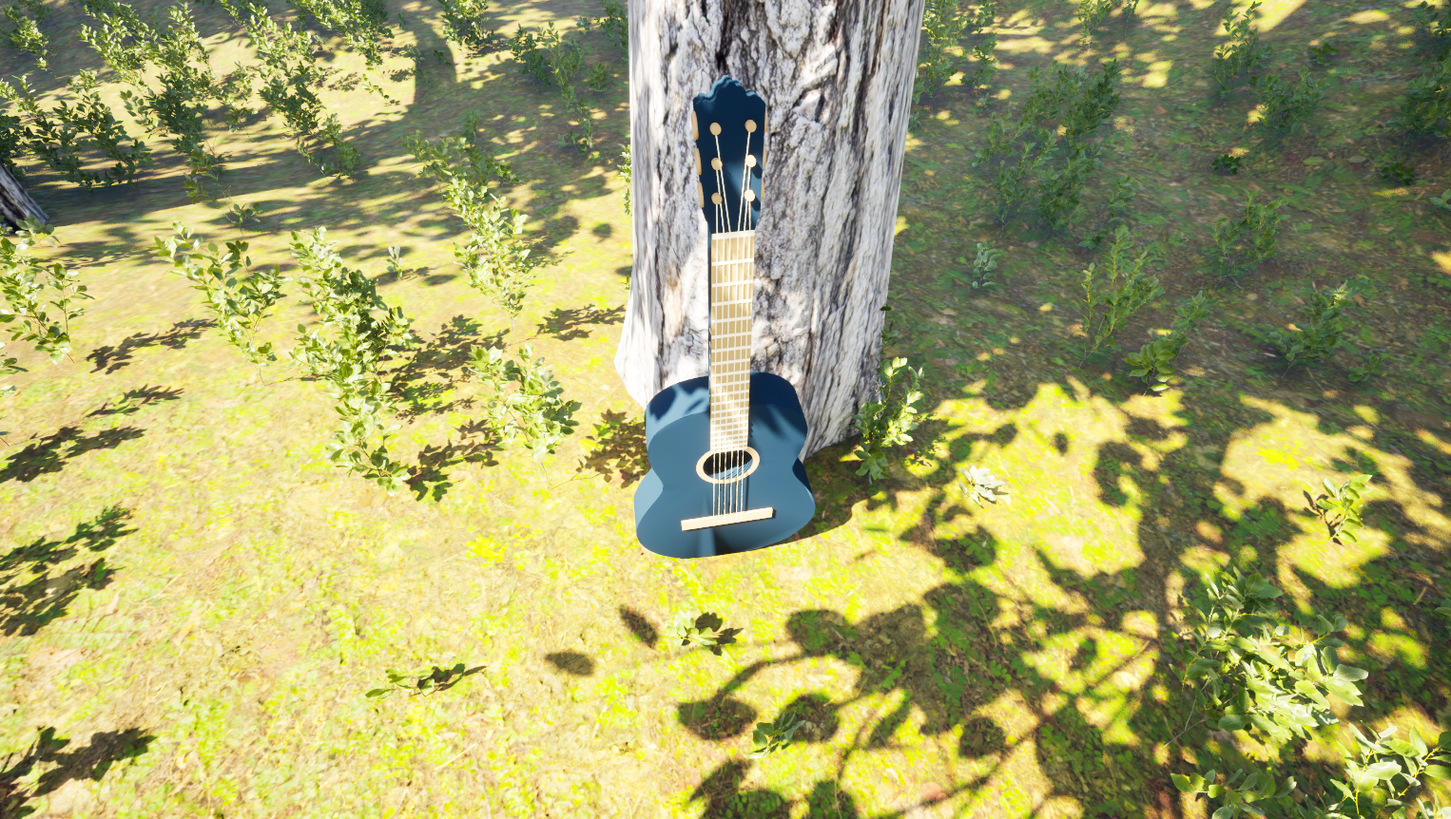Guitar: (543, 51, 906, 570)
